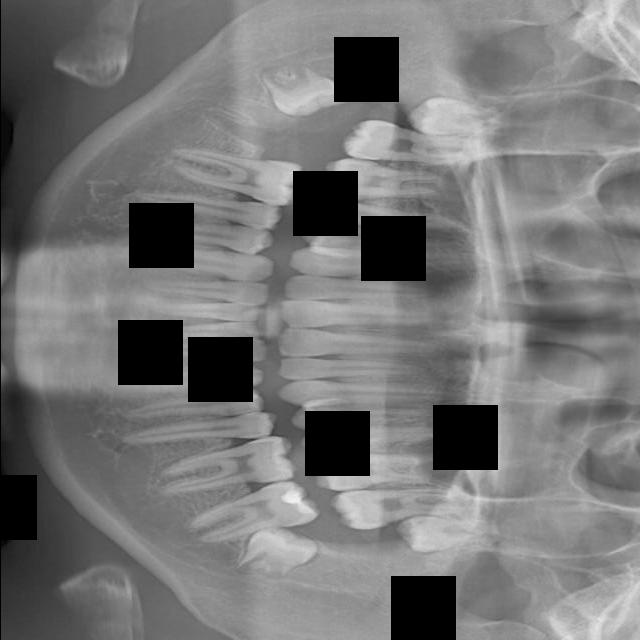3M ESPE Implant: (407, 96, 513, 137)
AGS Medikal Implant: (182, 476, 322, 548)
AMerOss Implant: (149, 432, 299, 505)
Amalgam filling: (340, 118, 487, 166)
Anthogyr Implant: (116, 410, 281, 457)
Bicon Implant: (116, 382, 266, 439)
BioHorizons Implant: (101, 357, 267, 405)
BioLife Implant: (142, 338, 269, 368)
Biomet 3i Implant: (146, 321, 260, 341)
Blue Sky Bio Implant: (145, 296, 262, 323)
Camlog Implant: (139, 278, 271, 305)
Caries: (276, 356, 443, 383)
Composite filling: (106, 240, 275, 284)
Cowellmedi Implant: (125, 205, 277, 257)
Crown: (130, 174, 284, 233)
DENTSPLY Implant: (316, 155, 445, 210)
Dentatus Implant: (163, 145, 304, 209)
Dentium Implant: (259, 43, 347, 127)
Euroteknika Implant: (304, 194, 476, 246)
Filling: (297, 219, 463, 255)
Frontier Implant: (286, 245, 494, 285)
Hiossen Implant: (276, 375, 472, 407)
Implant: (280, 300, 450, 331)
Implant Direct: (282, 275, 443, 303)
Keystone Dental Implant: (277, 327, 447, 360)
MIS Implant: (290, 402, 450, 431)
Mandible: (298, 408, 459, 457)
Maxilla: (311, 443, 458, 492)
Megagen Implant: (328, 487, 481, 531)
Neodent Implant: (395, 516, 499, 553)
Neoss Implant: (232, 515, 321, 598)
